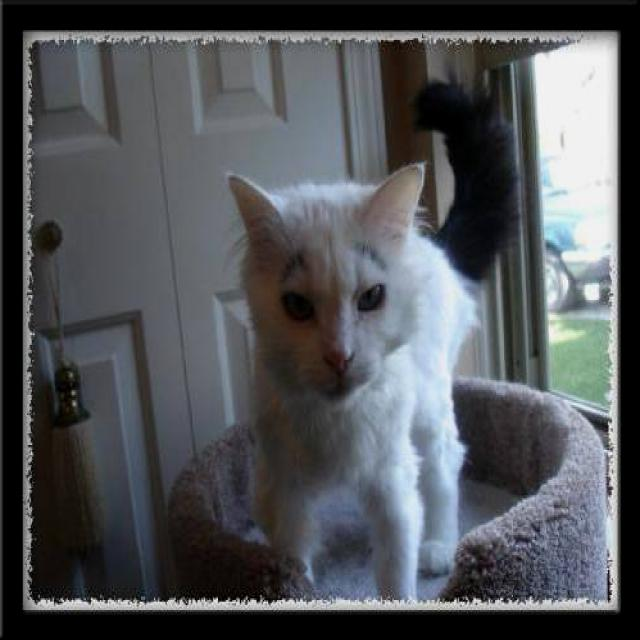Kucing: (169, 154, 478, 533)
